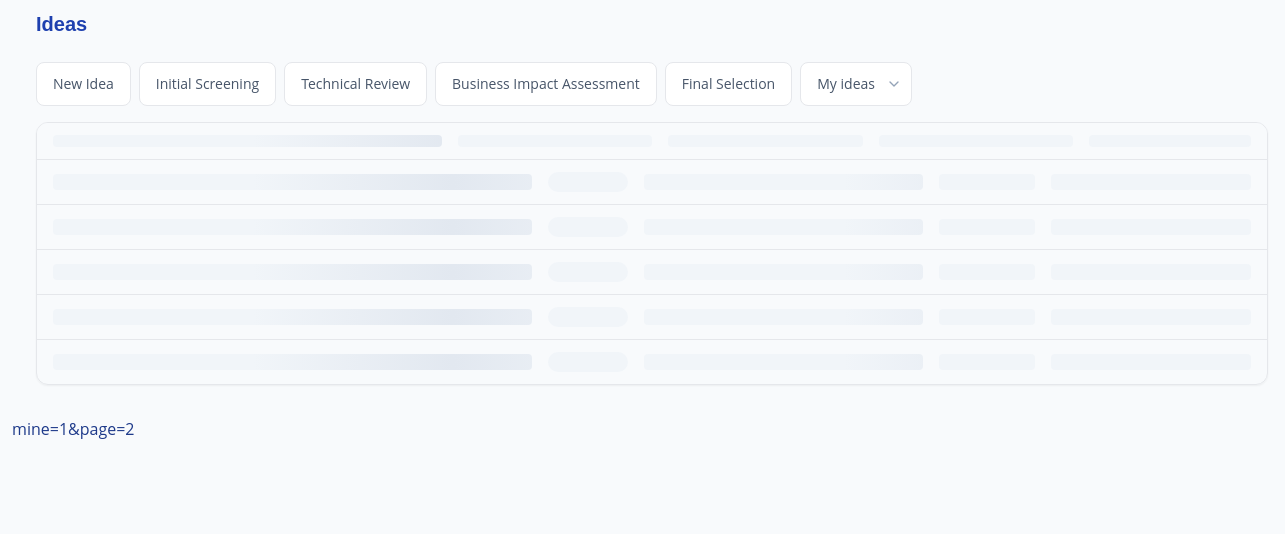
Test: IdeasPage — mine filter › deactivating toggle removes mine from URL and resets page to 1
Select "All ideas" in the dropdown named "scope" at (856, 84), box [800,62,912,106]
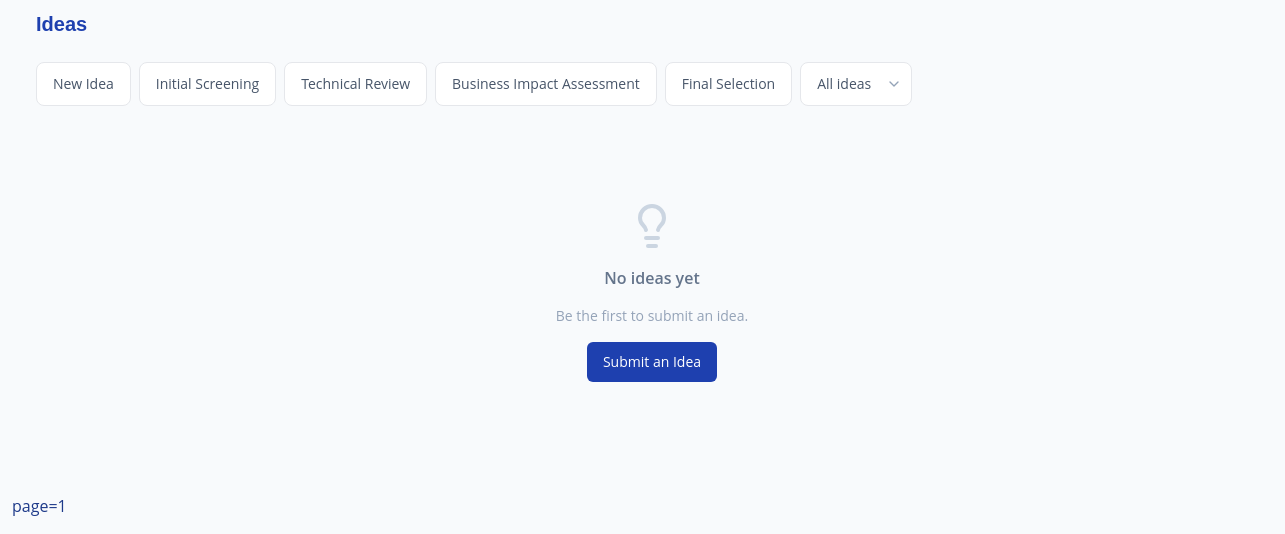
Now the text with test id "search-params" no longer shows "mine=1"
Now the text with test id "search-params" reads "page=1", box [12,495,67,517]
